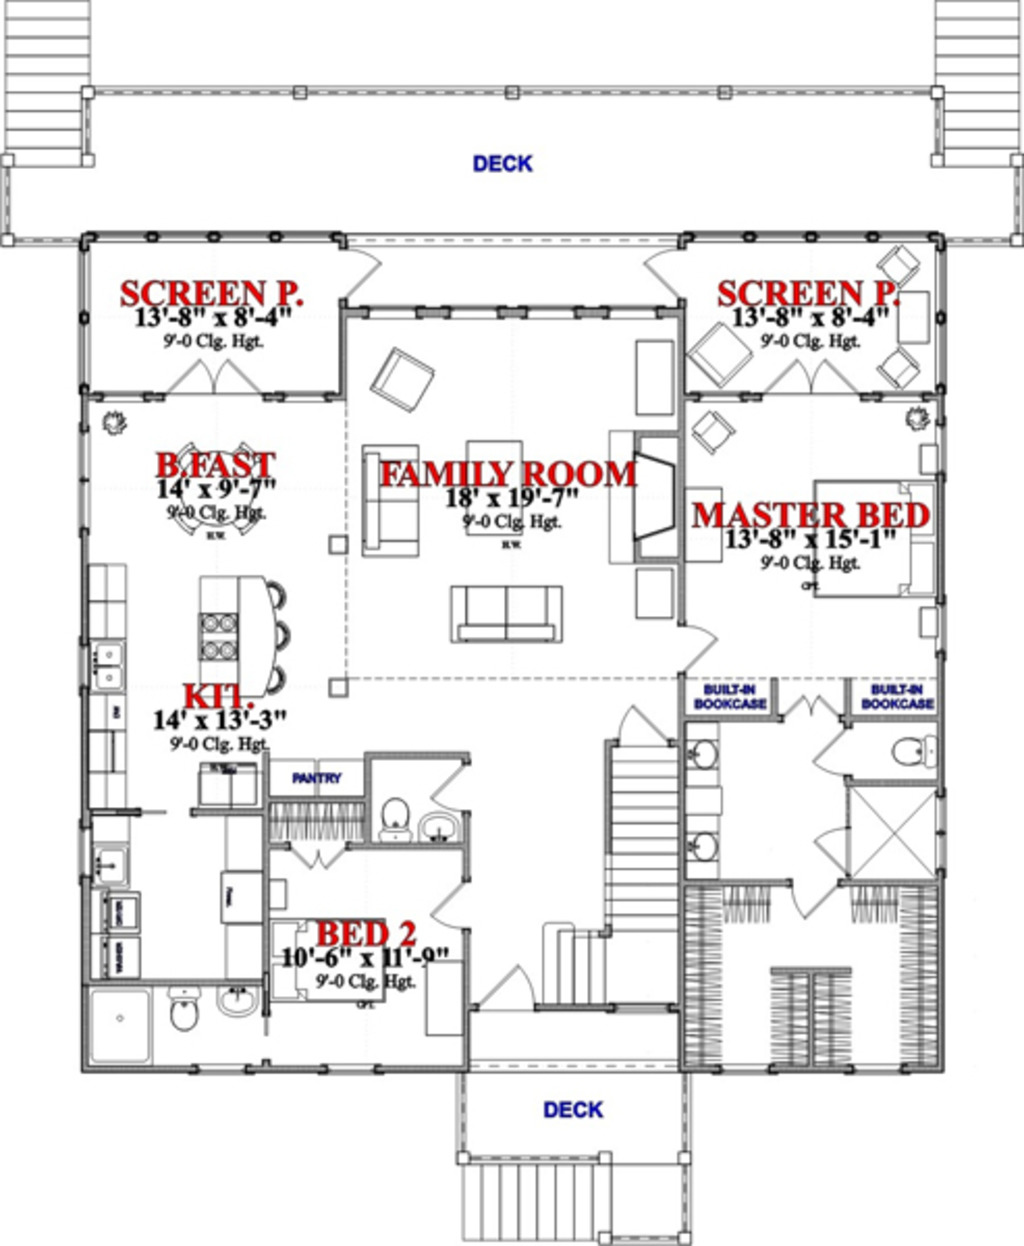door: (165, 360, 254, 404), (762, 358, 851, 400), (640, 249, 690, 306), (339, 245, 389, 299), (781, 879, 843, 920), (473, 965, 533, 1007), (614, 700, 670, 745), (804, 724, 854, 775), (428, 878, 472, 932), (678, 619, 726, 670), (810, 821, 848, 873), (287, 844, 344, 867)
kitchen_bar: (197, 571, 293, 703)
large_sink: (374, 792, 418, 852), (157, 983, 203, 1035), (887, 732, 941, 767)
large_sofa: (439, 582, 566, 649), (357, 440, 420, 565)
small_sink: (214, 978, 265, 1021), (689, 815, 724, 876), (683, 733, 716, 790), (416, 812, 464, 842)
small_sofa: (362, 345, 432, 410), (691, 327, 751, 391), (690, 411, 735, 456), (876, 349, 920, 387), (878, 240, 916, 283)
stairs: (532, 748, 685, 1002), (454, 1149, 691, 1246), (6, 2, 99, 177), (935, 6, 1024, 165)
tub: (91, 985, 154, 1070)
twin_sink: (91, 636, 127, 699)
